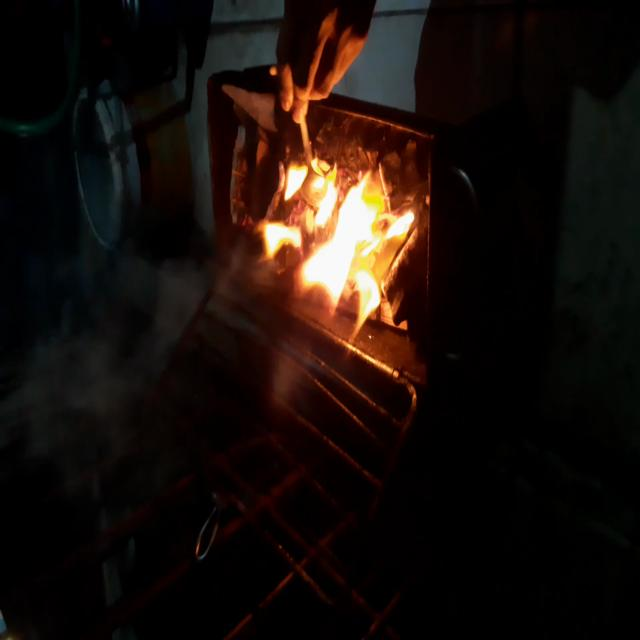Fire: (254, 149, 419, 335)
